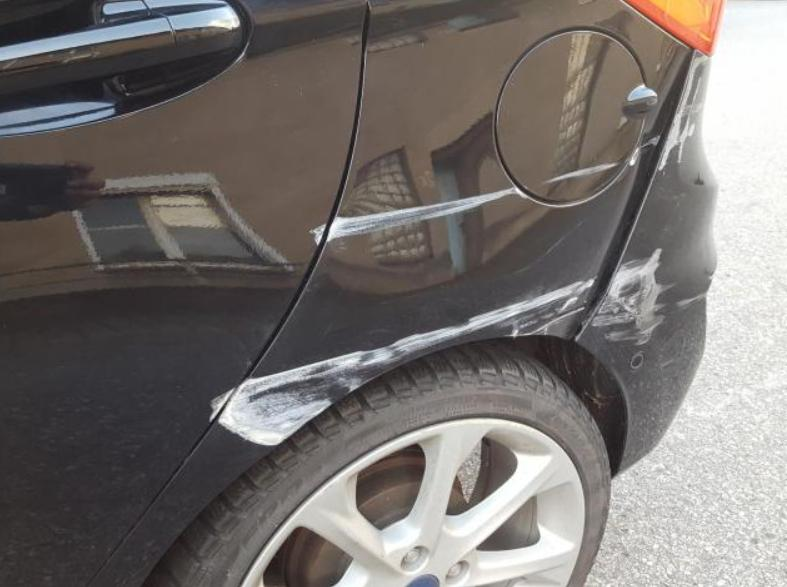Back-bumper: (573, 49, 719, 479)
Back-door: (0, 0, 369, 587)
Back-wheel: (142, 339, 611, 587)
Quarter-panel: (87, 0, 695, 586)
Tail-light: (623, 0, 727, 56)
